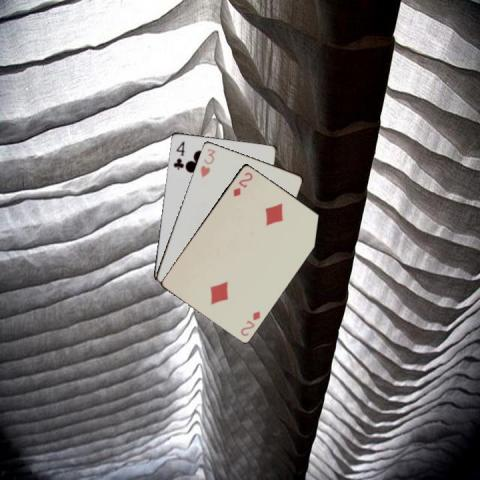2d: (237, 308, 262, 338), (230, 169, 254, 198)
3h: (197, 145, 217, 179)
4c: (170, 138, 186, 171)
